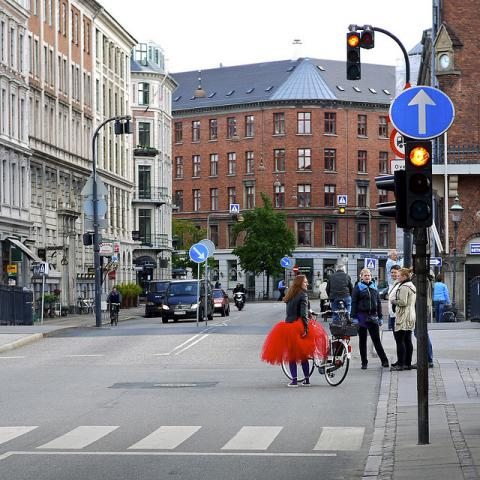car: (161, 279, 215, 323), (144, 279, 172, 316), (213, 288, 230, 316)
motorcycle: (235, 291, 245, 311)
